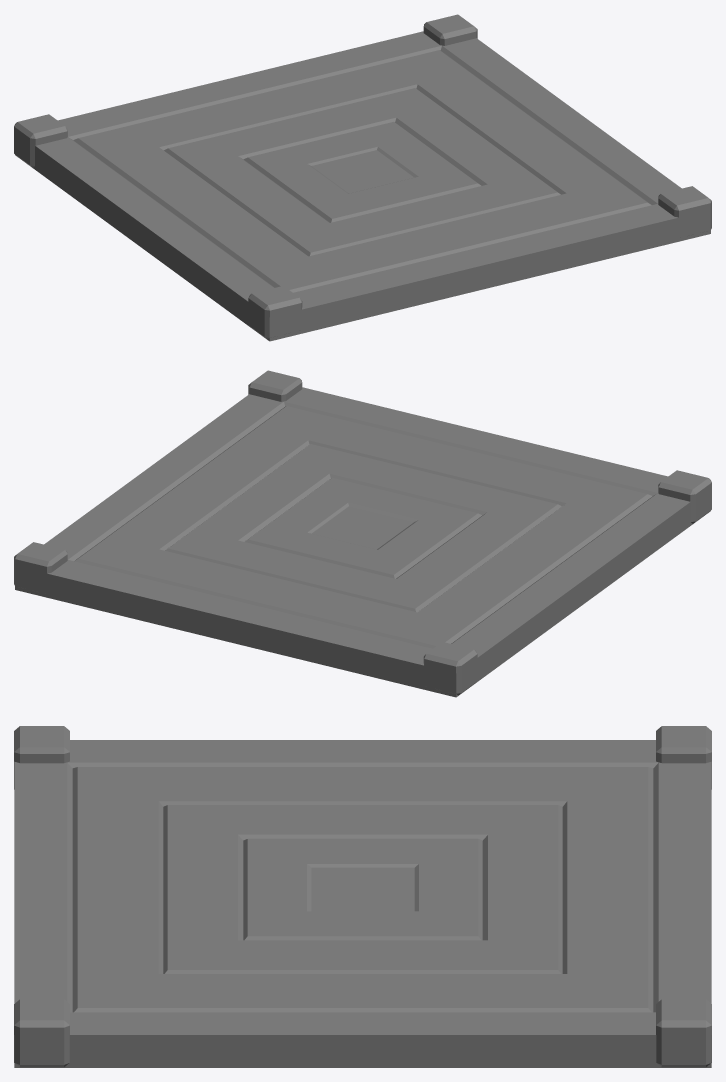
The model's file is Intersection tile.fbx.
3 views of the same model, one above another, from view 1: azimuth 30°, elevation 25°; view 2: azimuth 150°, elevation 25°; view 3: azimuth 270°, elevation 25° (orthographic). The views are drawn at different scales.
Visible parts, largest first — view 1: Intersection; view 2: Intersection; view 3: Intersection.
Part boxes in pixels (bbox=[...]): Intersection: bbox=[14, 14, 711, 341]; Intersection: bbox=[14, 370, 711, 697]; Intersection: bbox=[14, 726, 711, 1067].
Bounding box in the file's own units: 375 × 27.7 × 370.
